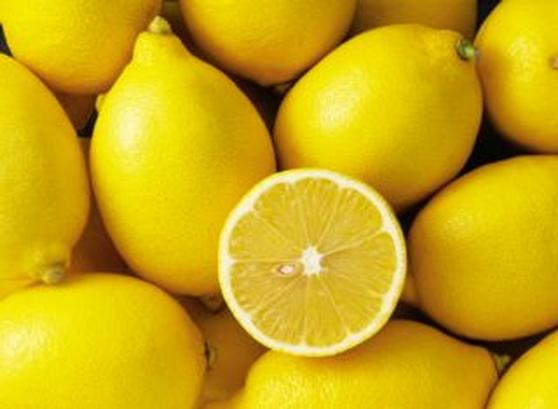lemon: (80, 19, 280, 315), (274, 22, 487, 200)
